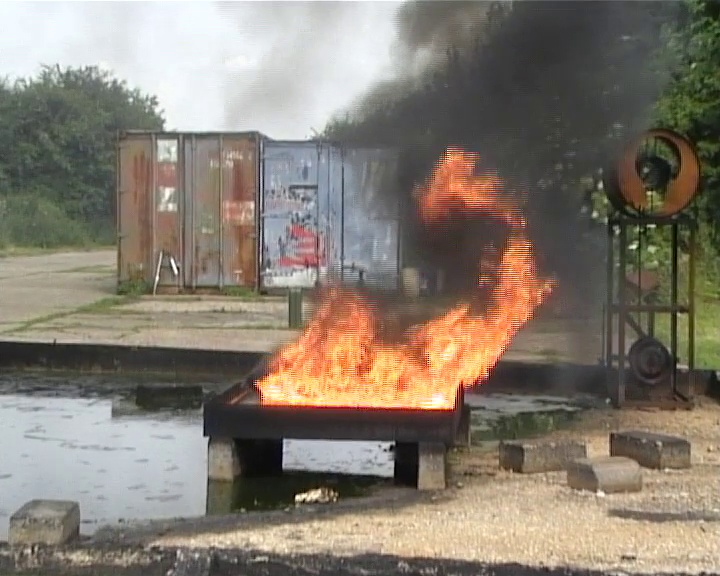fire: (253, 158, 546, 407)
